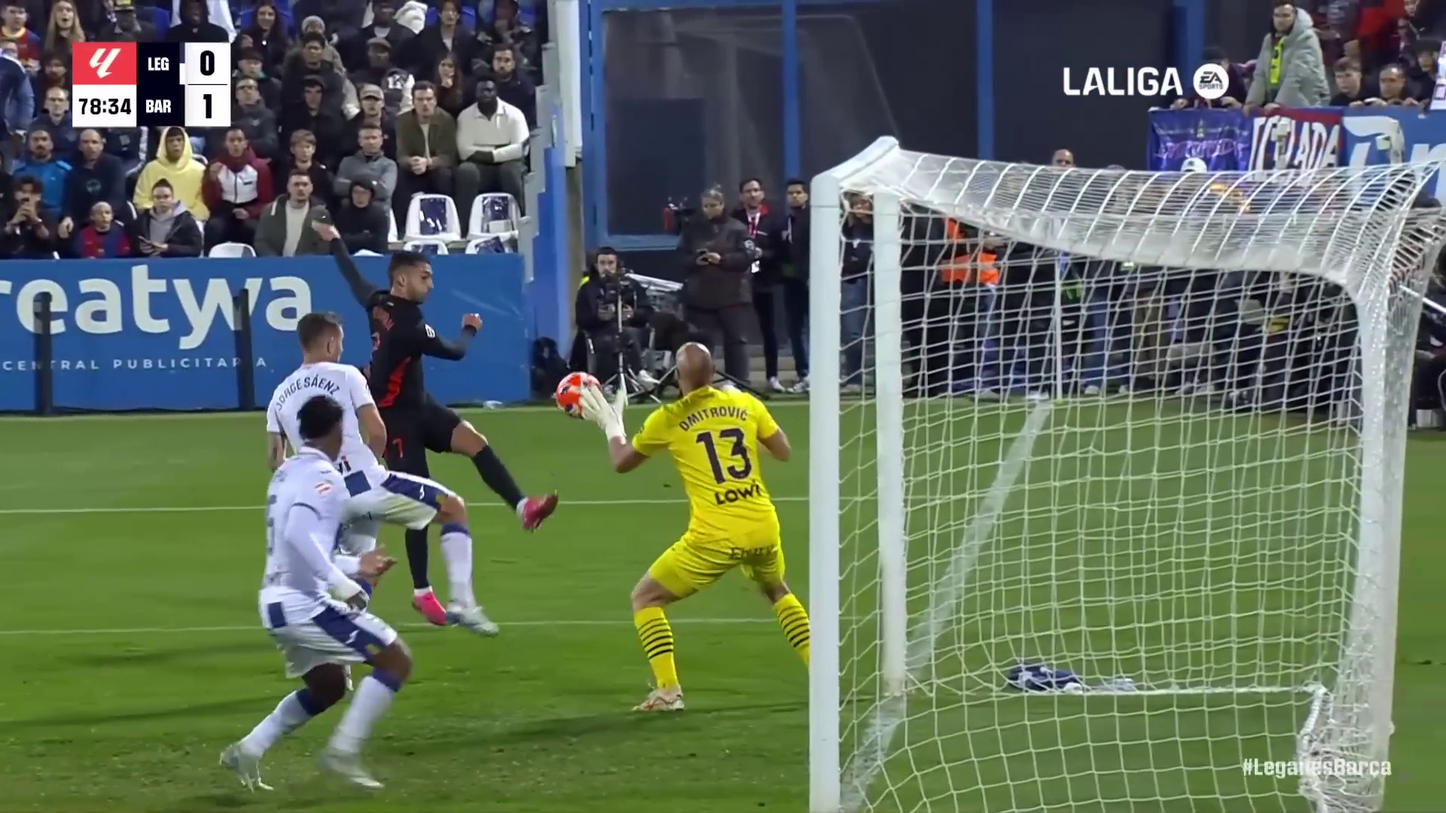ball: (552, 369, 604, 419)
player: (309, 206, 560, 631), (577, 340, 811, 716), (218, 392, 415, 813), (265, 309, 499, 637)
